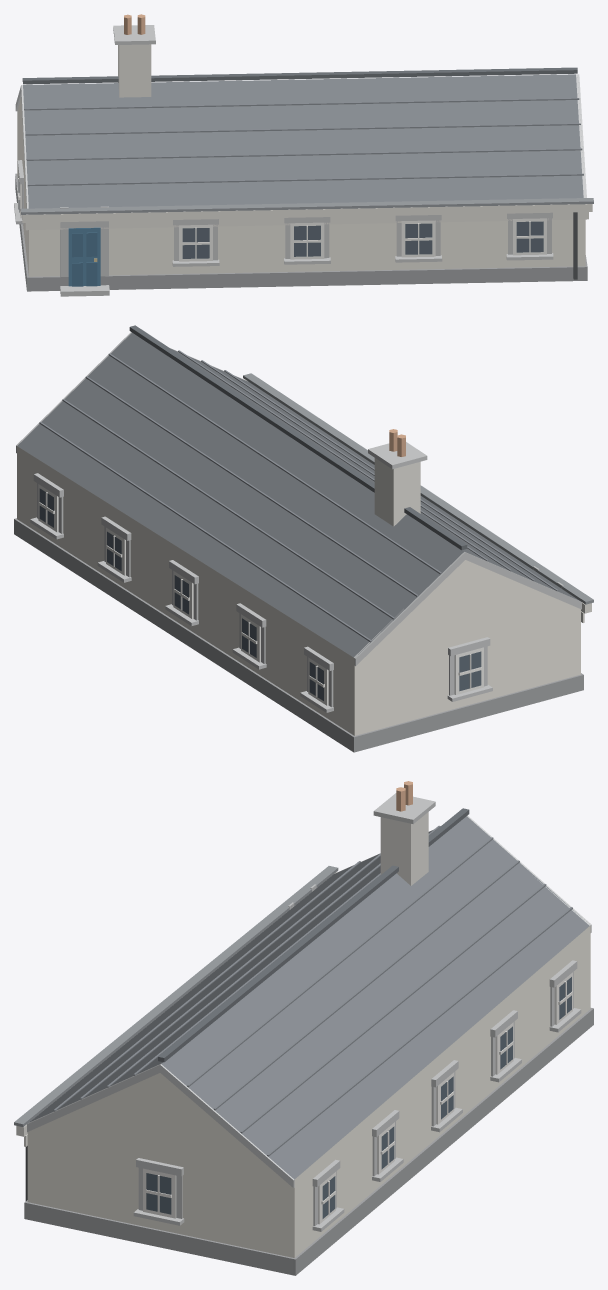
3 renders of one model, top to bottom at view 1: azimuth 30°, elevation 25°; view 2: azimuth 150°, elevation 25°; view 3: azimuth 270°, elevation 25°, orthographic. The views are drawn at different scales.
Parts seen in each view (by area): view 1: slate, harl_cream, plinth, string, stone_band, slate_lt, lead, slate_dk, frame, chim_render, door_blue_p, door_blue (+4 smaller); view 2: slate, harl_cream, plinth, stone_band, slate_lt, lead, slate_dk, frame, chim_render, window_glass_011; view 3: slate, harl_cream, plinth, stone_band, slate_lt, lead, slate_dk, frame, chim_render, window_glass_005.
Boxes of the visible parts, x1,y1,x2,y2 form: slate: (23,74,583,208); harl_cream: (17,97,585,276); plinth: (15,173,587,291); string: (22,204,592,230); stone_band: (14,25,586,296); slate_lt: (24,98,583,186); lead: (20,198,593,214); slate_dk: (22,67,577,84); frame: (17,178,546,261); chim_render: (118,44,151,97); door_blue_p: (72,232,97,286); door_blue: (68,227,100,286); slate: (17,332,579,657); harl_cream: (17,446,580,735); plinth: (14,518,583,752); stone_band: (16,332,581,712); slate_lt: (39,350,558,642); lead: (243,373,593,604); slate_dk: (129,325,467,550); frame: (38,484,483,705); chim_render: (374,458,420,526); window_glass_011: (459,651,481,691); slate: (29,816,589,1179); harl_cream: (27,925,590,1257); plinth: (24,1008,593,1275); stone_band: (27,793,591,1231); slate_lt: (53,825,572,1156); lead: (14,866,338,1126); slate_dk: (158,808,469,1062); frame: (143,972,572,1224); chim_render: (380,812,428,885); window_glass_005: (146,1173,171,1214).
Size of the model in its own units: 18.34 by 7.17 by 14.39.
